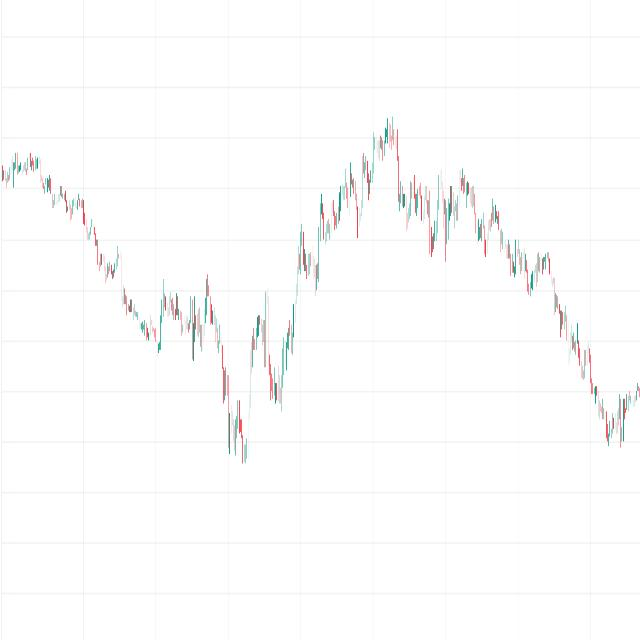Rising-Wedge: (202, 99, 406, 534)
